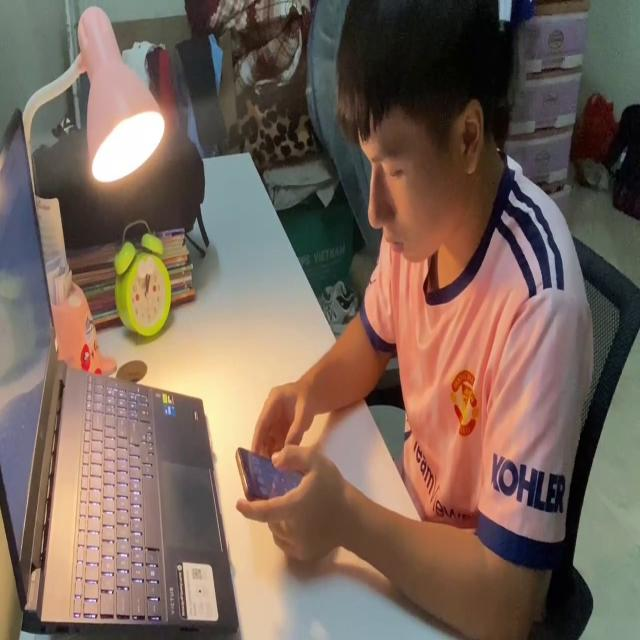laptop: (0, 104, 240, 640)
phone: (231, 440, 306, 507)
student: (251, 0, 592, 640)
